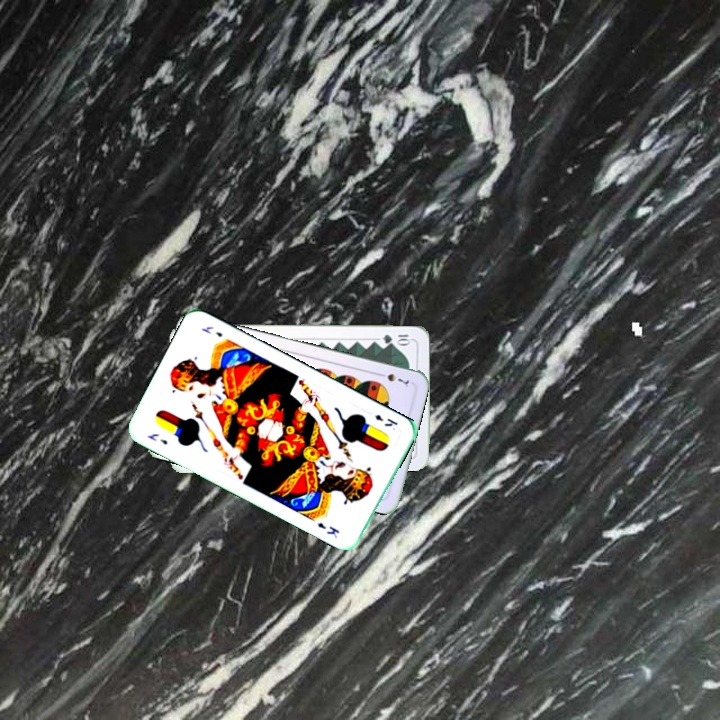EK: (370, 410, 400, 429), (143, 429, 170, 447)
G10: (378, 330, 413, 346)
S7: (373, 369, 412, 390)
